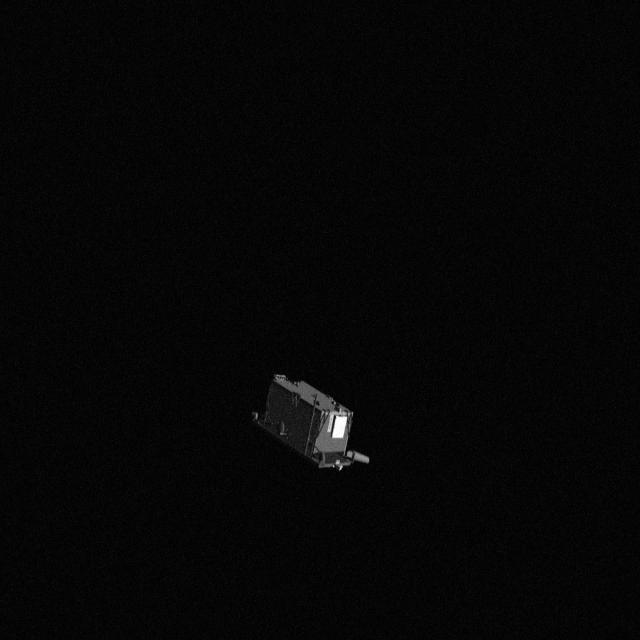satellite: (250, 370, 378, 472)
